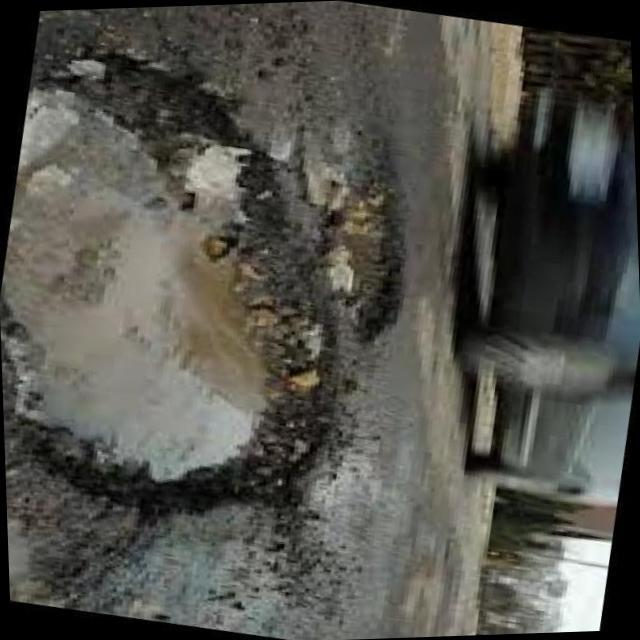pothole: (2, 56, 343, 533), (333, 168, 415, 335)
